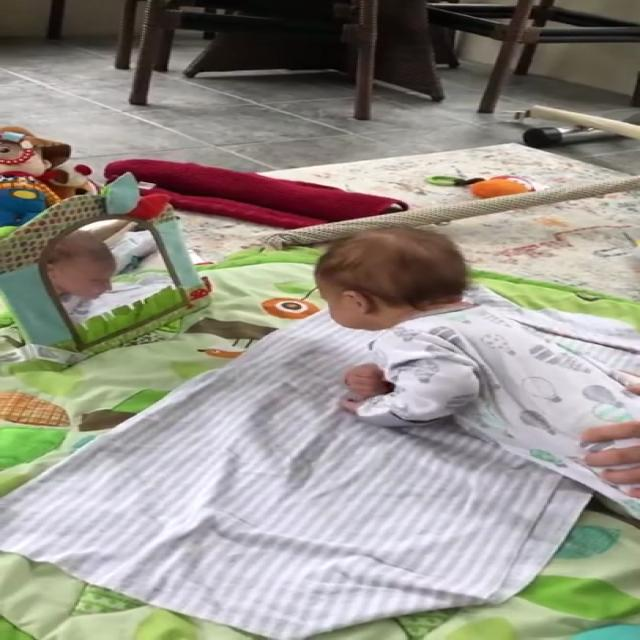baby: (296, 222, 640, 524)
